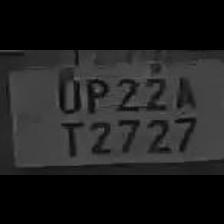2: (109, 70, 141, 112), (82, 116, 112, 154), (140, 70, 168, 110), (141, 114, 170, 152)
7: (170, 110, 197, 152), (113, 114, 140, 152)
A: (168, 69, 198, 108)
P: (82, 72, 110, 114)
T: (54, 116, 84, 156)
U: (51, 66, 81, 114)
